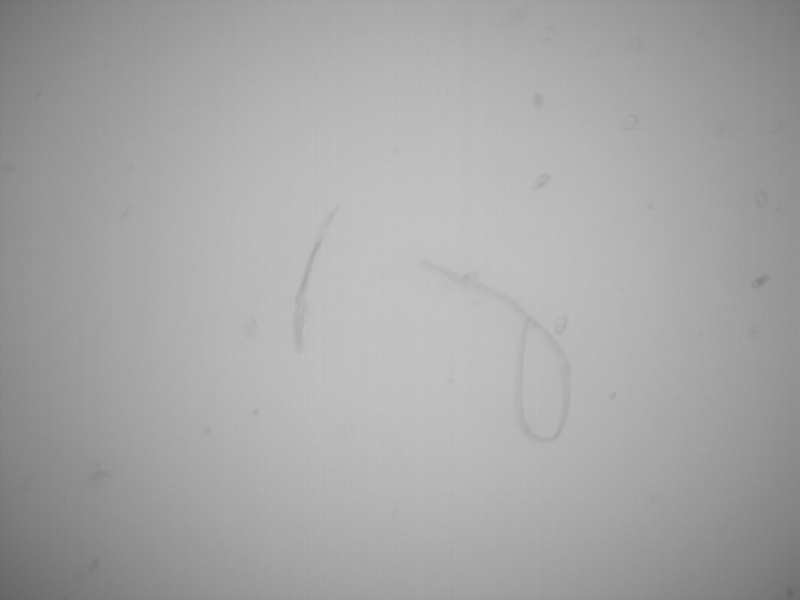fiber: (417, 256, 576, 449), (289, 198, 347, 361)
